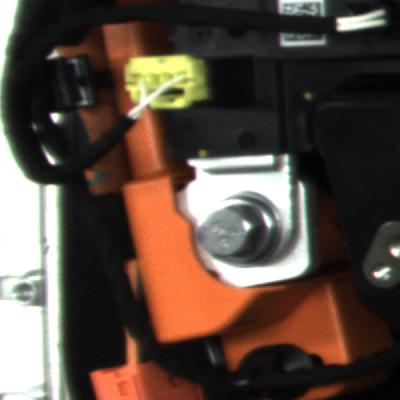nut_b: (195, 183, 299, 282)
